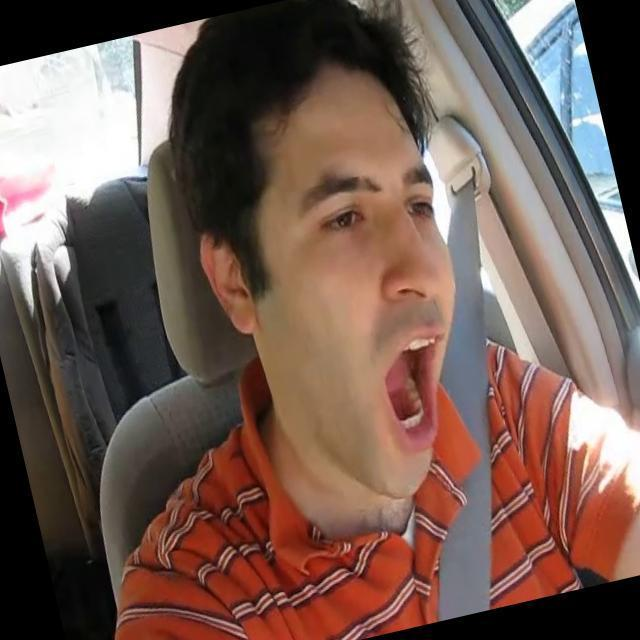open-mouth: (381, 329, 440, 450)
